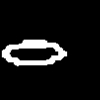chain: (2, 40, 66, 65)
